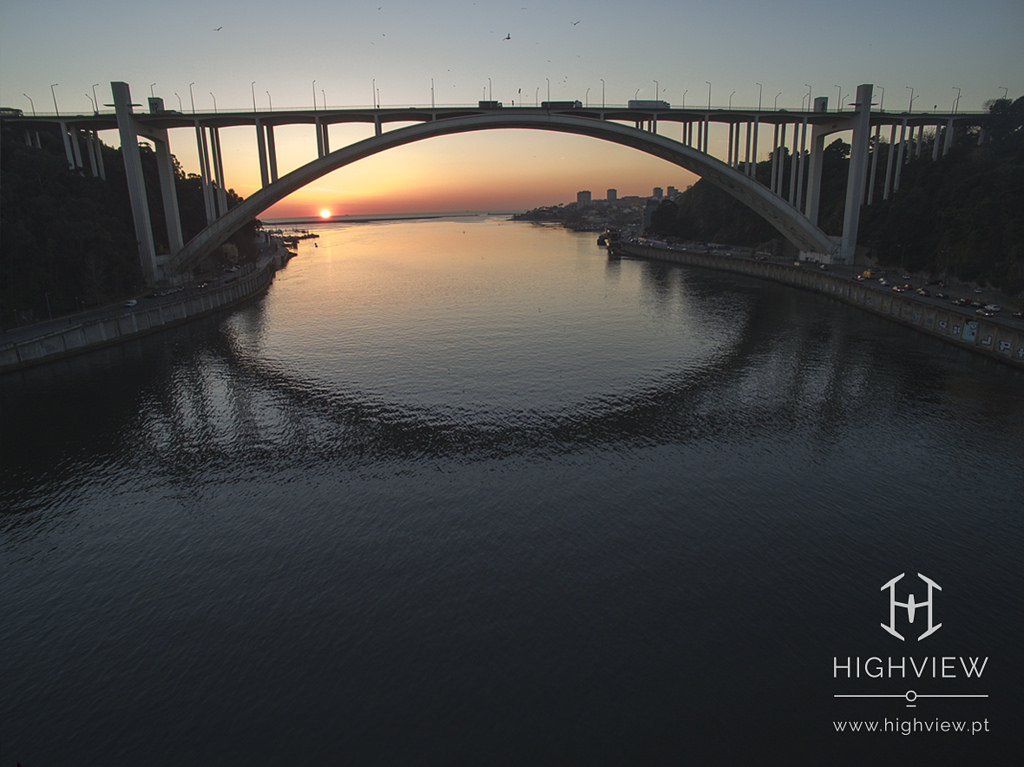arrabida: (0, 80, 1023, 296)
